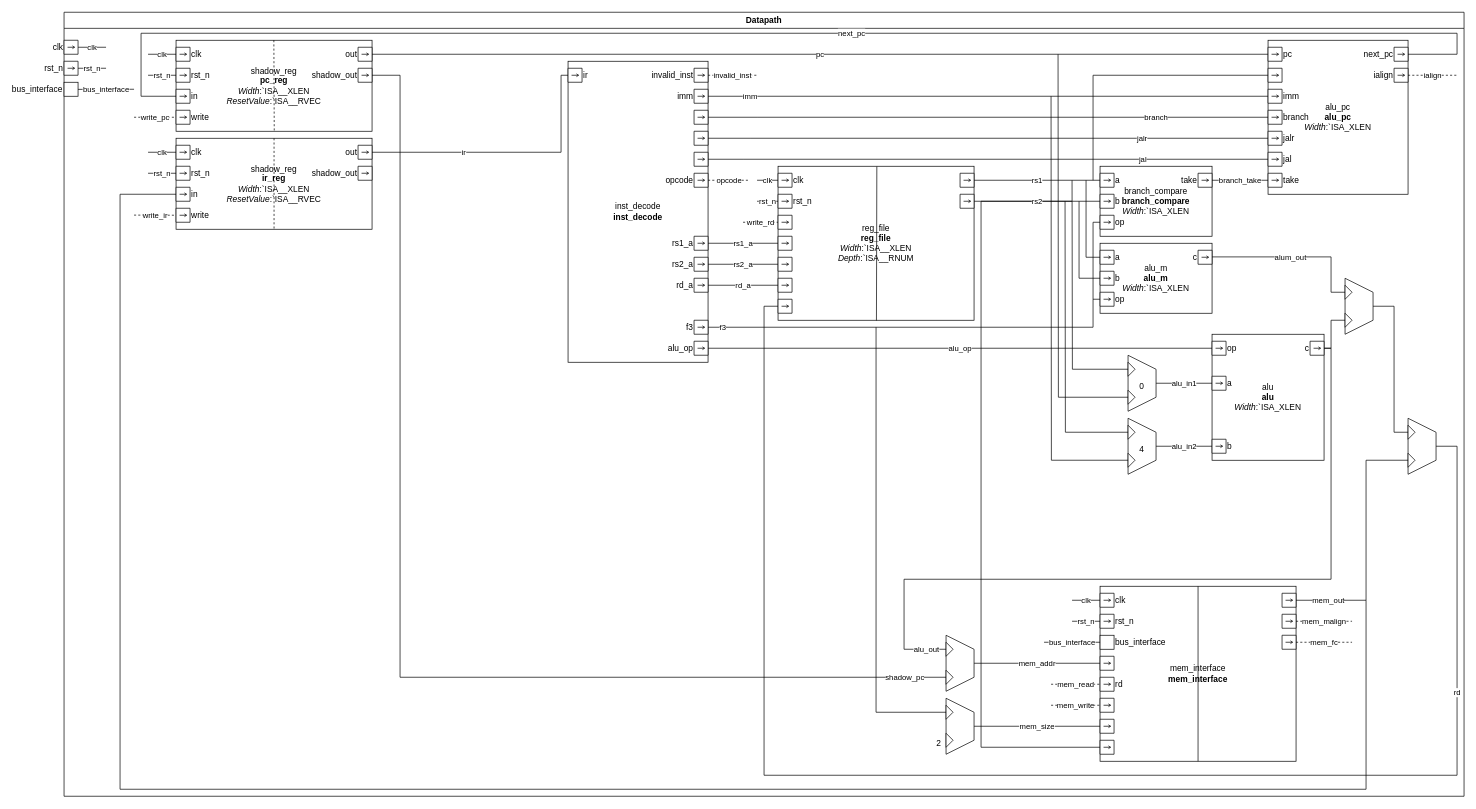
Some shapes in this 1476 by 809 pixel diagram are drawn without their labels. The shapes that lost their labels are listed below. From the top down, each one's centre as x and y in pixels, then its label:
the point at 1274,75: rs
the point at 700,117: opcode_branch
the point at 700,138: opcode_jalr
the point at 700,159: opcode_jal
the point at 966,180: rd_data1
the point at 966,201: rd_data2
the point at 784,222: wr_en
the point at 784,243: rd_addr1
the point at 784,264: rd_addr2
the point at 784,285: wr_addr
the point at 784,306: wr_data
the point at 1288,600: data_out
the point at 1288,621: malign
the point at 1288,642: complete
the point at 1106,663: address
the point at 1106,705: wr
the point at 1106,726: sign_size
the point at 1106,747: data_in
